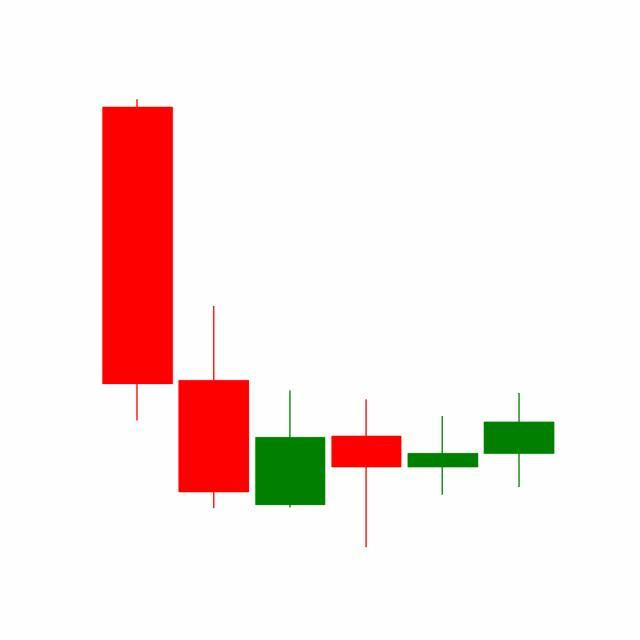Hikkake Pattern: (175, 302, 555, 548)
